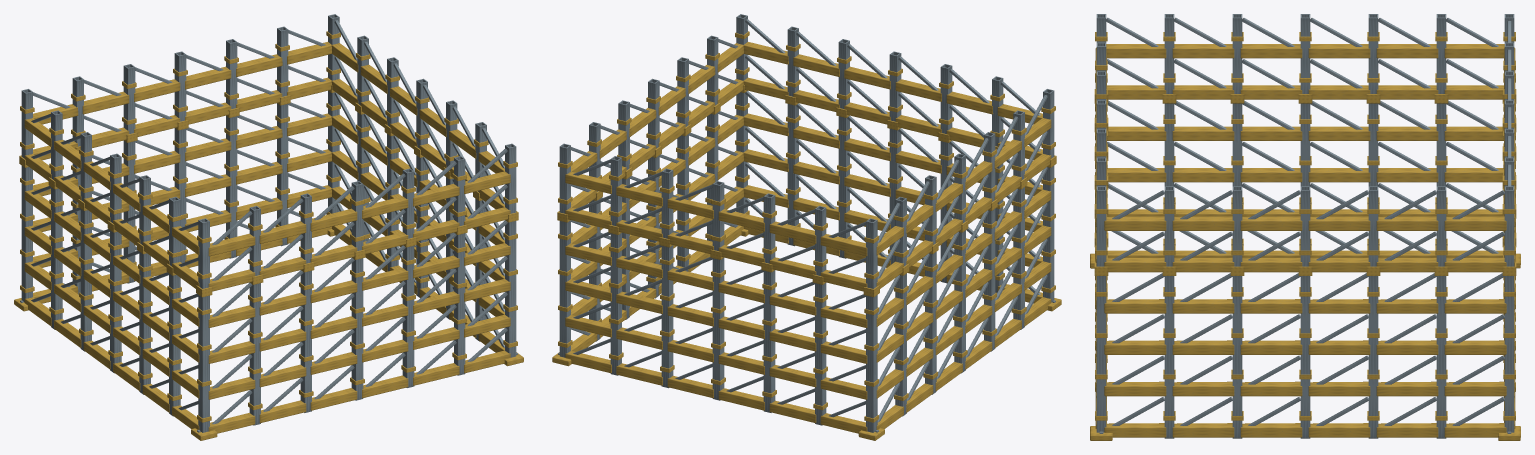
3 views of the same model, side by side, from view 1: azimuth 30°, elevation 25°; view 2: azimuth 150°, elevation 25°; view 3: azimuth 270°, elevation 25° (orthographic). The views are drawn at different scales.
Parts seen in each view (by area): view 1: Tier 0 side 0 post 0, Tier 0 side 0 post 3, Tier 0 side 0 post 4, Tier 0 side 1 post 0, Tier 0 side 0 post 5, Tier 0 side 0 post 1, Tier 0 side 0 post 2, Tier 0 side 3 post 0, Tier 0 side 3 post 4, Tier 0 side 3 post 2, Tier 0 side 3 post 1, Tier 0 side 3 post 5 (+85 smaller); view 2: Tier 0 side 3 post 0, Tier 0 side 2 post 4, Tier 0 side 2 post 2, Tier 0 side 2 post 3, Tier 0 side 2 post 0, Tier 0 side 2 post 1, Tier 0 side 2 post 5, Tier 0 side 0 post 5, Tier 0 side 0 post 4, Tier 0 side 0 post 0, Tier 0 side 3 post 2, Tier 0 side 3 post 4 (+86 smaller); view 3: Tier 0 side 1 post 0, Tier 0 side 2 post 0, Tier 0 side 1 post 1, Tier 0 side 1 post 2, Tier 0 side 1 post 3, Tier 0 side 1 post 4, Tier 0 side 1 post 5, Tier 0 bay 1-1-0 service deck, Tier 0 bay 1-1-1 service deck, Tier 0 bay 1-1-2 service deck, Tier 0 bay 1-1-3 service deck, Tier 0 bay 1-1-4 service deck (+72 smaller).
Part boxes in pixels (x1,y1,x2,y2): Tier 0 side 0 post 0: [198, 295, 209, 432]; Tier 0 side 0 post 3: [351, 258, 363, 400]; Tier 0 side 0 post 4: [402, 246, 414, 387]; Tier 0 side 1 post 0: [505, 221, 516, 357]; Tier 0 side 0 post 5: [454, 233, 465, 375]; Tier 0 side 0 post 1: [249, 283, 260, 425]; Tier 0 side 0 post 2: [300, 270, 311, 412]; Tier 0 side 3 post 0: [21, 166, 32, 302]; Tier 0 side 3 post 4: [139, 252, 150, 394]; Tier 0 side 3 post 2: [80, 209, 91, 351]; Tier 0 side 3 post 1: [51, 187, 62, 329]; Tier 0 side 3 post 5: [169, 273, 180, 416]; Tier 0 side 3 post 0: [866, 295, 877, 432]; Tier 0 side 2 post 4: [763, 270, 775, 412]; Tier 0 side 2 post 2: [661, 245, 673, 388]; Tier 0 side 2 post 3: [712, 258, 724, 400]; Tier 0 side 2 post 0: [559, 220, 570, 357]; Tier 0 side 2 post 1: [610, 233, 621, 375]; Tier 0 side 2 post 5: [815, 283, 826, 425]; Tier 0 side 0 post 5: [787, 104, 798, 246]; Tier 0 side 0 post 4: [838, 116, 849, 258]; Tier 0 side 0 post 0: [1043, 166, 1054, 302]; Tier 0 side 3 post 2: [925, 252, 936, 394]; Tier 0 side 3 post 4: [984, 209, 995, 351]; Tier 0 side 1 post 0: [1096, 276, 1106, 432]; Tier 0 side 2 post 0: [1504, 276, 1514, 432]; Tier 0 side 1 post 1: [1164, 276, 1174, 438]; Tier 0 side 1 post 2: [1232, 276, 1242, 438]; Tier 0 side 1 post 3: [1300, 276, 1310, 438]; Tier 0 side 1 post 4: [1368, 276, 1378, 438]; Tier 0 side 1 post 5: [1436, 276, 1446, 438]; Tier 0 bay 1-1-0 service deck: [1104, 381, 1166, 396]; Tier 0 bay 1-1-1 service deck: [1172, 381, 1234, 396]; Tier 0 bay 1-1-2 service deck: [1240, 381, 1302, 396]; Tier 0 bay 1-1-3 service deck: [1308, 381, 1370, 396]; Tier 0 bay 1-1-4 service deck: [1376, 381, 1438, 396].
Bounding box in the file's own units: 2.85 × 1.81 × 2.85.
2 materials, 2 textured.
